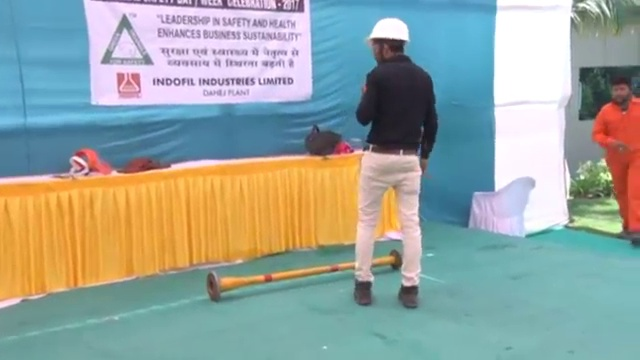helmet: (364, 16, 411, 43)
helmet_off: (607, 75, 633, 106)
helmet_on: (366, 17, 411, 62)
person: (352, 15, 438, 307), (591, 73, 640, 244)
